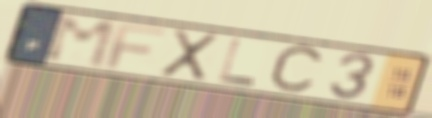3: (325, 51, 377, 103)
C: (265, 43, 328, 96)
F: (103, 22, 169, 71)
L: (216, 37, 260, 88)
M: (43, 14, 121, 71)
X: (158, 28, 222, 83)
